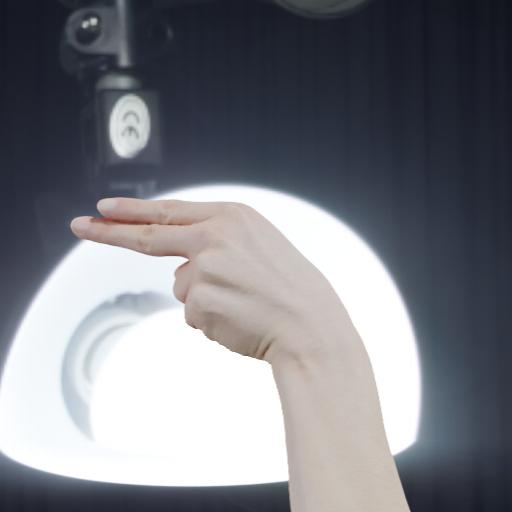H: (60, 174, 394, 394)
